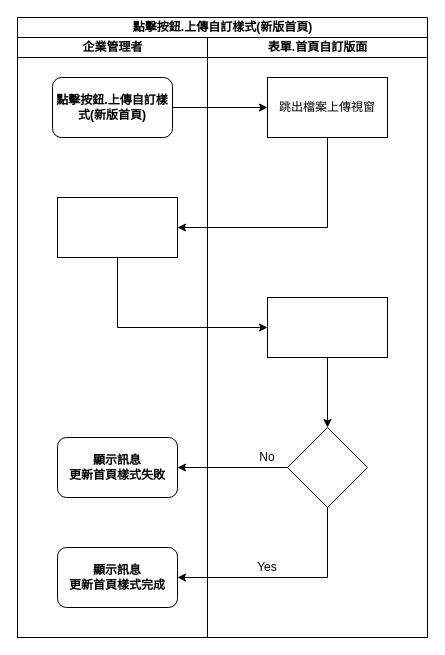
The diagram is 445 pixels wide and 655 high, and some of its shapes have lost their labels. The shapes that lost their labels are listed below. From the top down, each one's centre as x and y in pixels, then its label:
At [117,227]: "挑選檔案並上傳".
At [327,327]: "儲存自訂樣式".
At [327,467]: "儲存成功".
